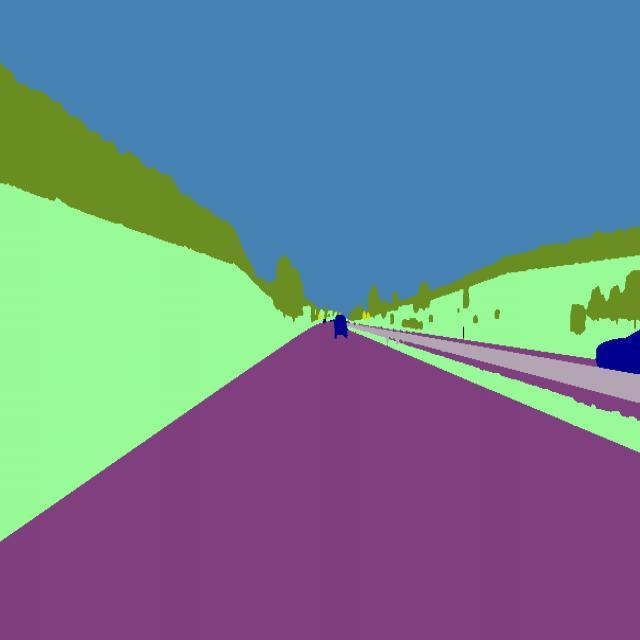safe: (594, 326, 640, 388), (332, 312, 351, 342)
